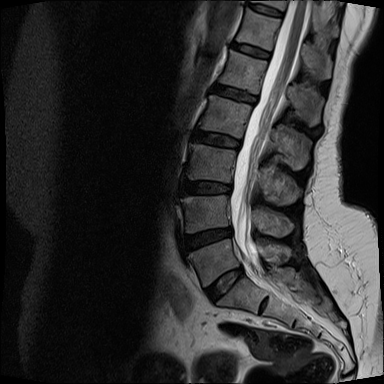Lumbar Disc Bulge (LDB): (175, 219, 239, 258), (207, 76, 263, 109)
Normal IVD: (167, 173, 237, 201), (184, 126, 245, 153), (226, 38, 275, 65), (243, 1, 283, 23)
Spinal Stenosis (SS): (219, 214, 241, 246)
